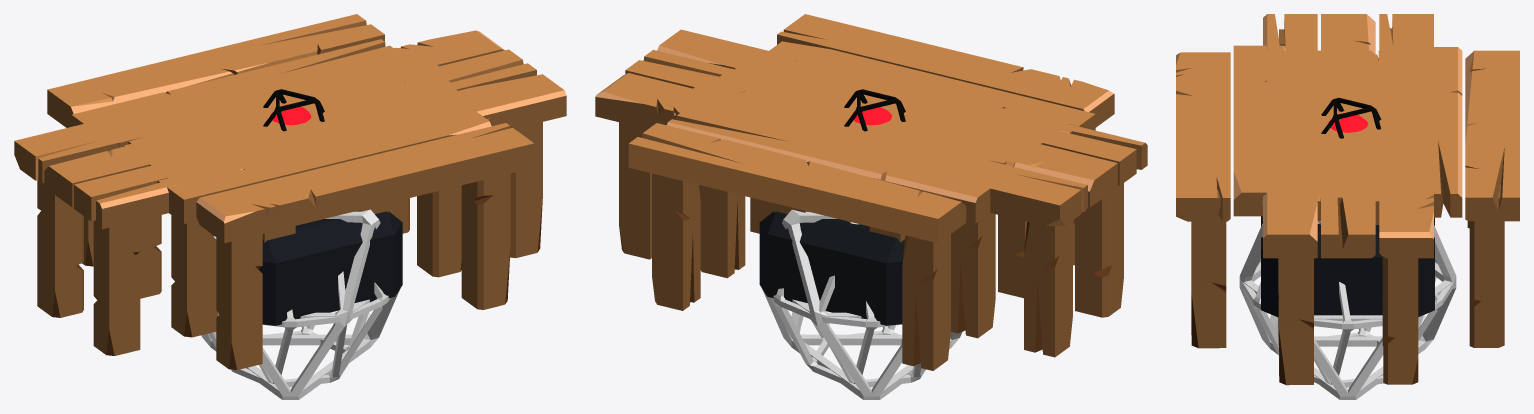
The model's file is Artefact.fbx.
The picture shows the model from 3 angles, left to right: view 1: azimuth 30°, elevation 25°; view 2: azimuth 150°, elevation 25°; view 3: azimuth 270°, elevation 25°; orthographic projection. The views are drawn at different scales.
Visible parts, largest first — view 1: 2x2, 3x1, 2x1, Postament, Cylinder, Cylinder.001, 1x1, Icosphere; view 2: 2x2, 3x1, 2x1, Postament, Cylinder, Cylinder.001, Icosphere, 1x1; view 3: 2x2, 3x1, Postament, 2x1, Cylinder, Cylinder.001, Icosphere, 1x1.
Part boxes in pixels (x1,y1,x2,y2): 2x2: [47, 14, 534, 369]; 3x1: [14, 30, 566, 355]; 2x1: [112, 49, 489, 337]; Postament: [258, 211, 402, 325]; Cylinder: [201, 209, 399, 399]; Cylinder.001: [208, 271, 390, 387]; 1x1: [212, 95, 402, 242]; Icosphere: [263, 89, 324, 131]; 2x2: [628, 14, 1114, 370]; 3x1: [595, 29, 1147, 357]; 2x1: [674, 50, 1067, 338]; Postament: [759, 211, 904, 325]; Cylinder: [762, 209, 962, 399]; Cylinder.001: [770, 221, 925, 387]; Icosphere: [844, 89, 905, 131]; 1x1: [774, 74, 966, 242]; 2x2: [1176, 45, 1519, 348]; 3x1: [1263, 14, 1433, 385]; Postament: [1261, 216, 1434, 317]; 2x1: [1262, 50, 1433, 345]; Cylinder: [1239, 221, 1456, 399]; Cylinder.001: [1242, 221, 1453, 387]; Icosphere: [1321, 97, 1381, 138]; 1x1: [1262, 88, 1404, 163].
Bounding box in the file's own units: 600 × 326 × 395.
